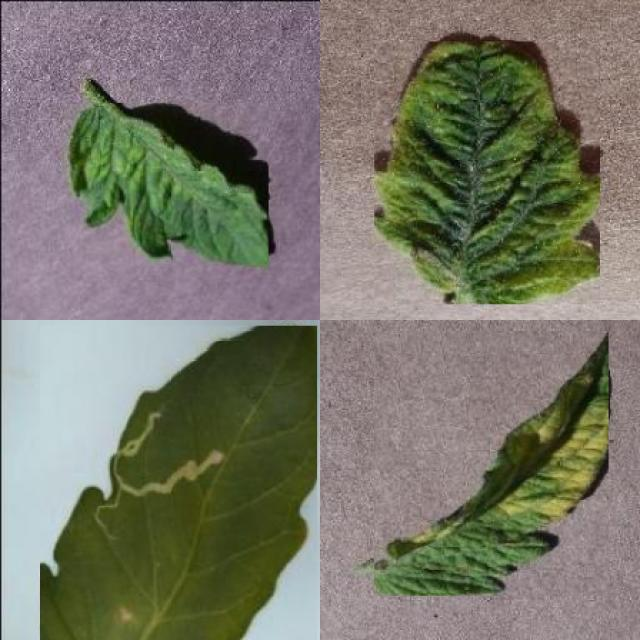Leaf Miner: (40, 325, 317, 640)
Leaf Mold: (374, 330, 609, 596)
Mosaic Virus: (65, 104, 268, 266)
Yellow Leaf Curl Virus: (374, 42, 600, 304)
